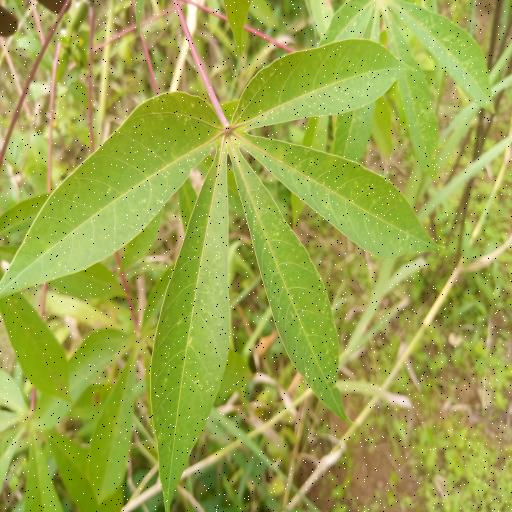Cassava_Mosaic: (0, 36, 434, 512), (304, 0, 497, 187), (1, 350, 169, 512)
